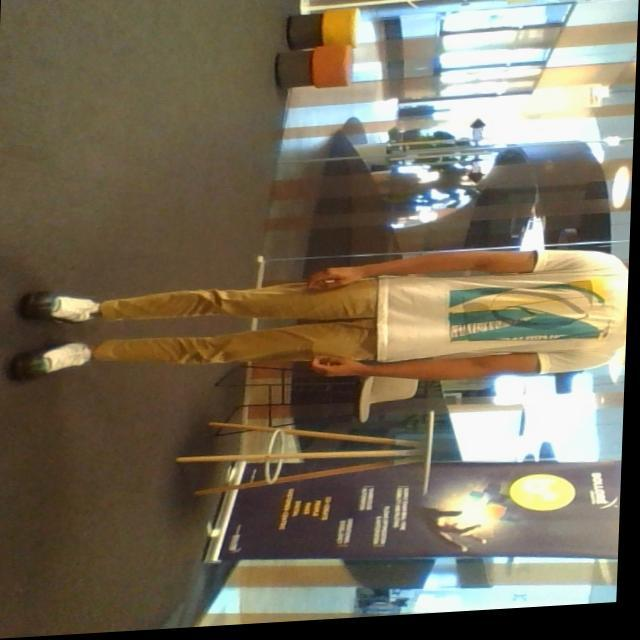shoes: (9, 331, 92, 388), (15, 289, 99, 322), (119, 403, 123, 404)
